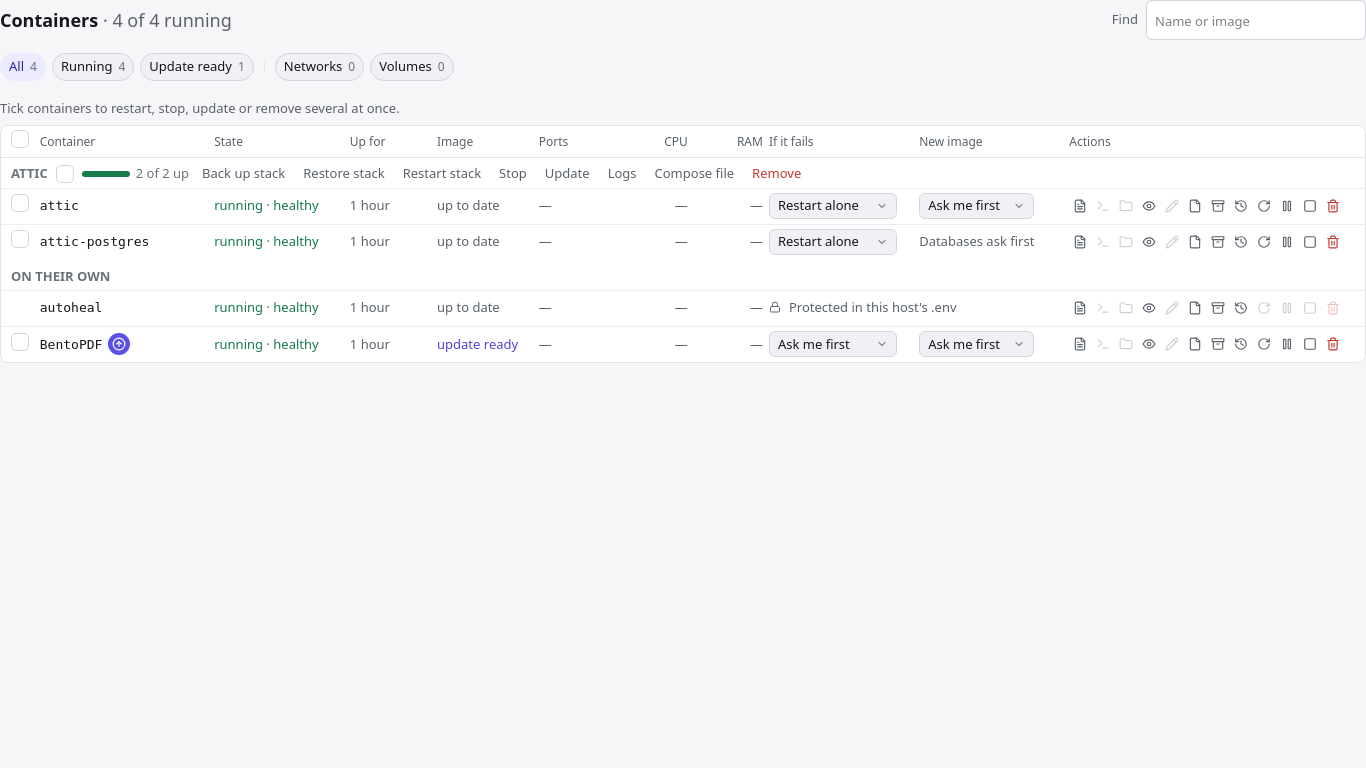
Test: a row's update icon › shows beside the name only where there is an update, and nothing goes out before the box's Update
This screenshot has width=1366, height=768.
expect the element named "Update BentoPDF" is shown: met, box [40, 333, 130, 355]
Click the button named "Update BentoPDF" at (119, 344), box [108, 333, 130, 355]
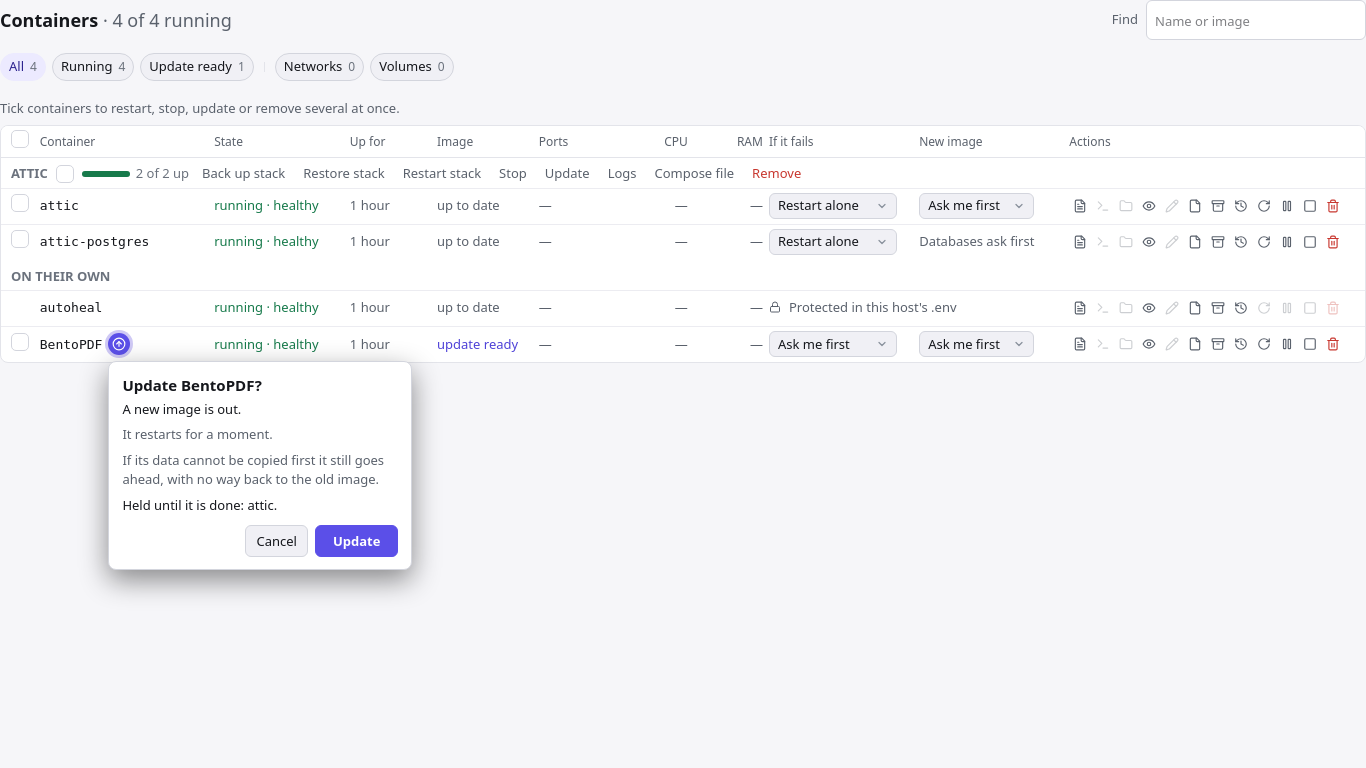
Click the button "Update" below "Held until it is done: attic." at (357, 541), box [315, 525, 398, 557]
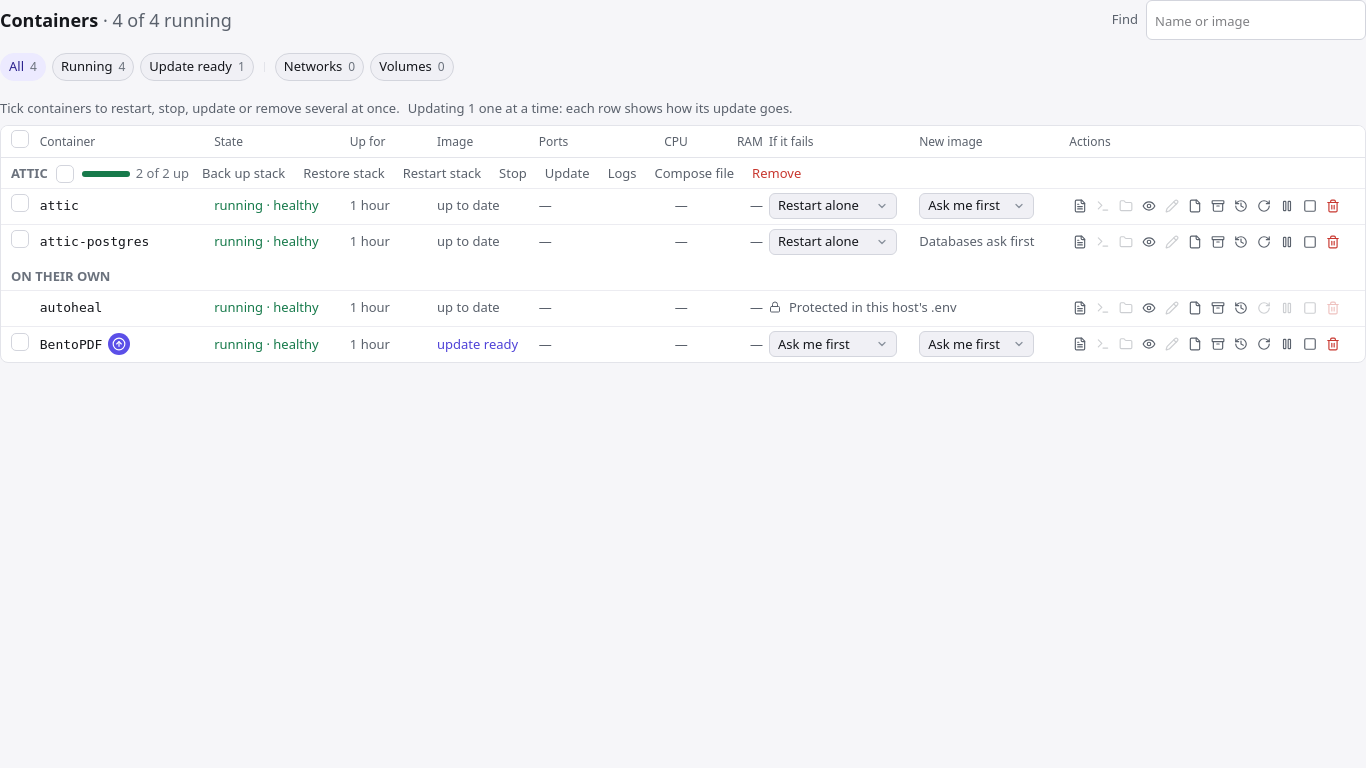
expect the dialog is gone: met
